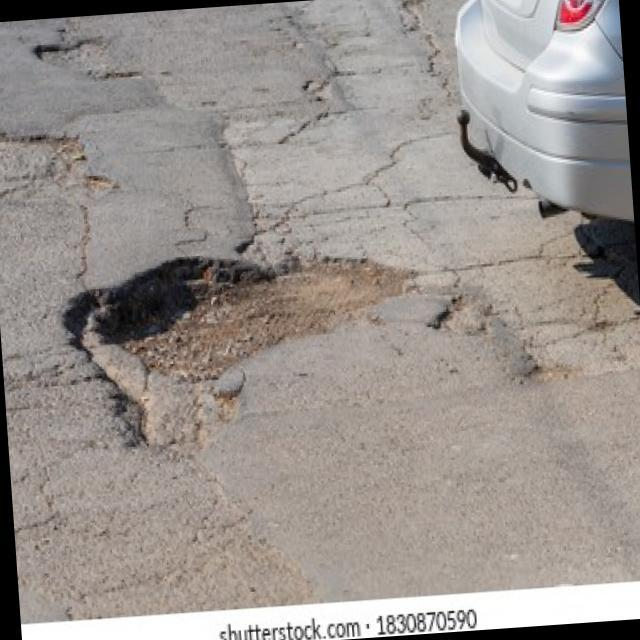Pothole: (60, 240, 416, 387), (116, 372, 240, 457), (0, 115, 113, 206), (424, 288, 496, 340), (34, 35, 110, 73), (300, 76, 338, 102)
